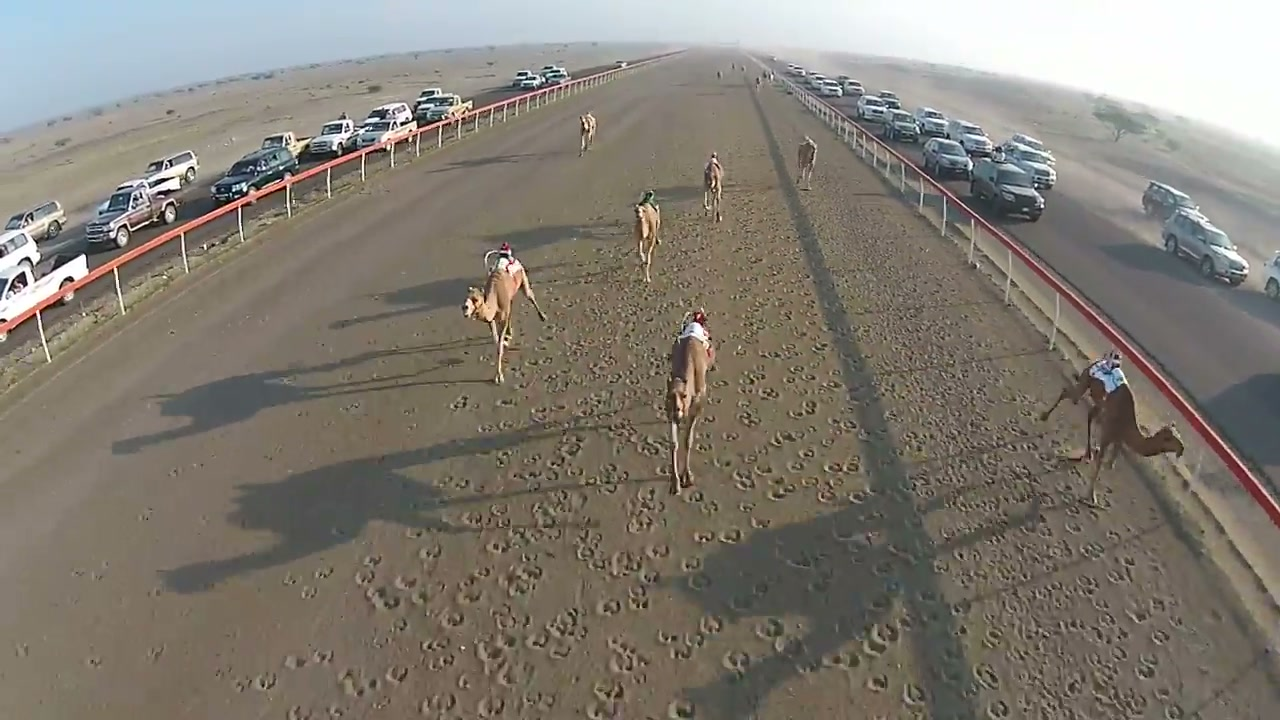animal_foot_print: (0, 78, 1275, 719), (364, 165, 1246, 719)
